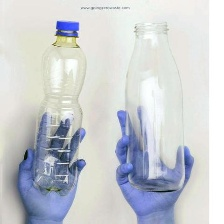bottle: (26, 13, 95, 203), (122, 16, 188, 196)
